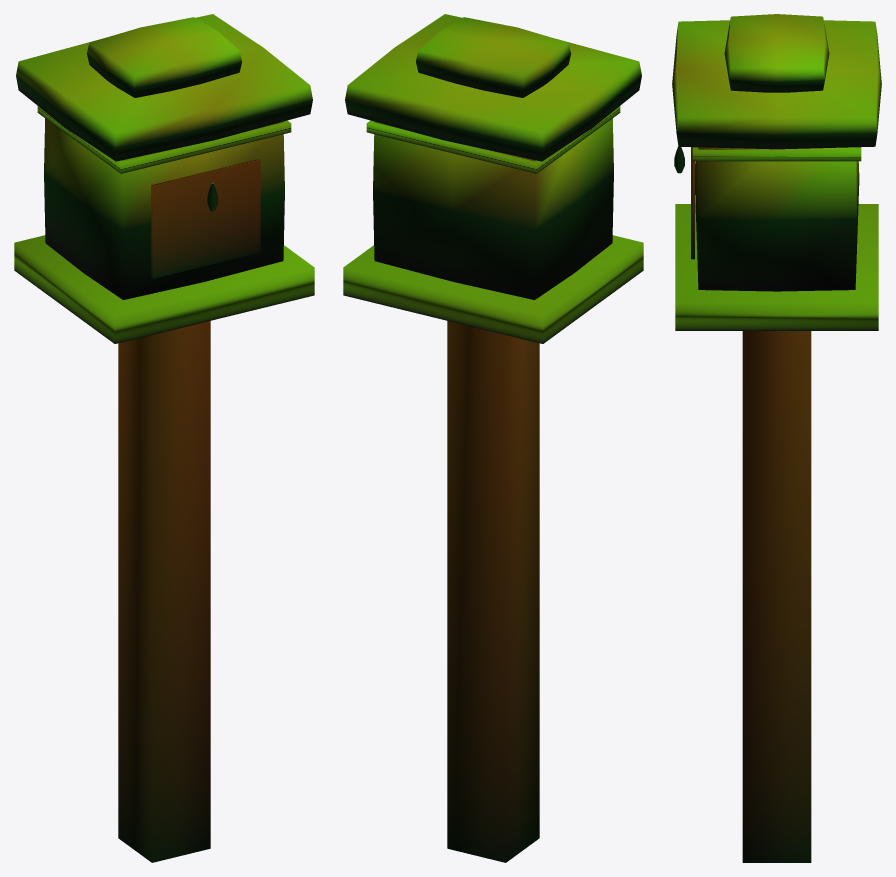
The model's file is shrine_box.glb.
3 views of the same model, side by side, from view 1: azimuth 30°, elevation 25°; view 2: azimuth 150°, elevation 25°; view 3: azimuth 270°, elevation 25° (orthographic).
Visible parts, largest first — view 1: shrine_box; view 2: shrine_box; view 3: shrine_box.
Boxes of the visible parts, bbox=[...] form: shrine_box: bbox=[14, 14, 314, 862]; shrine_box: bbox=[343, 14, 643, 862]; shrine_box: bbox=[672, 14, 881, 862].
Size of what is drawn, in the model's own units: 0.32 by 1.2 by 0.28.
